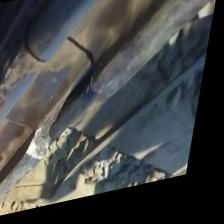person: (0, 16, 153, 190)
